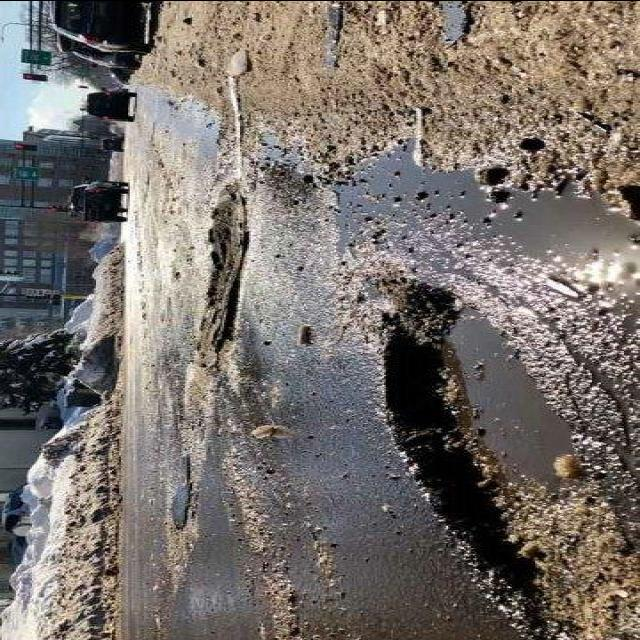lubang: (372, 273, 620, 606), (180, 178, 270, 378)
